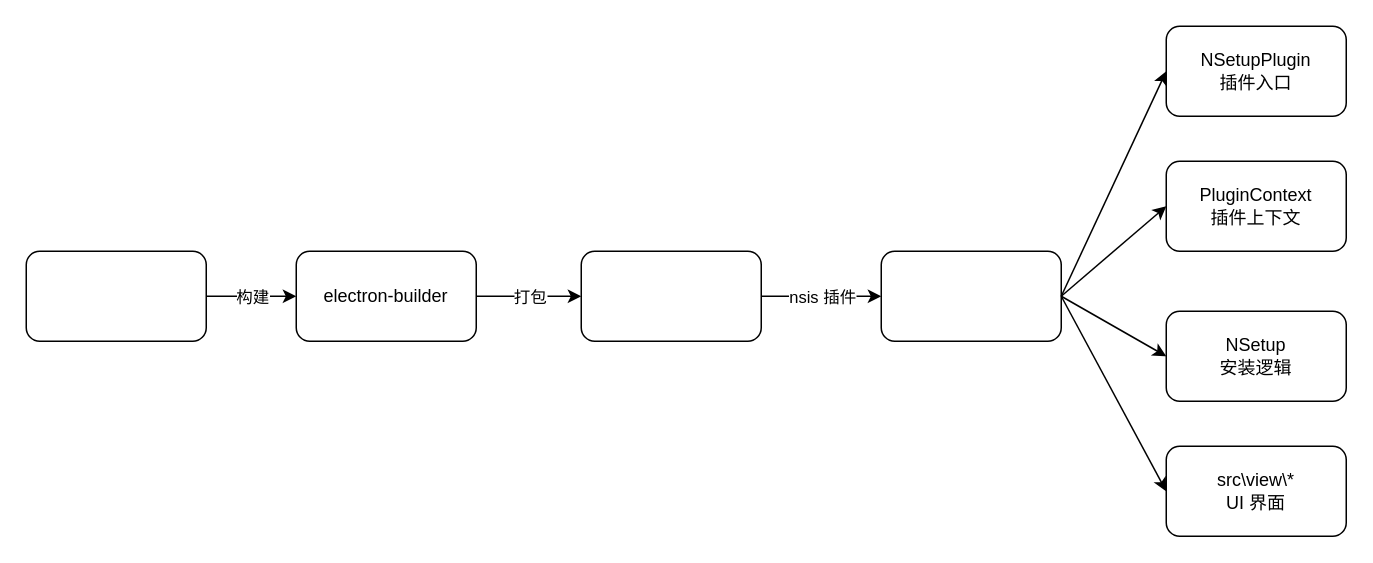
Image size: 1373x563. Some labels were removed from this diagram. The box of each missing label's shape, as (x1, y1, x2, y2) in pixels:
bilibili-electron: (25, 250, 206, 341)
build\bilibiliSetup.nsh 脚本: (580, 250, 761, 341)
Qt: (880, 250, 1061, 341)
